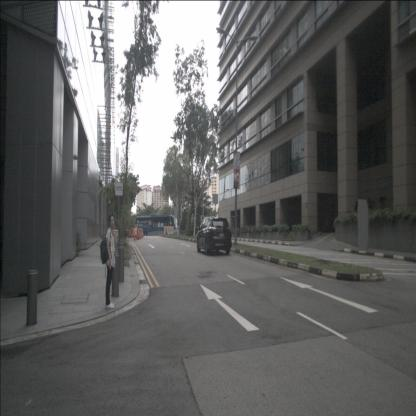human-pedestrian-adult: (100, 214, 116, 309)
vehicle-bus-rigid: (136, 215, 178, 238)
vehicle-car: (196, 216, 232, 255)
